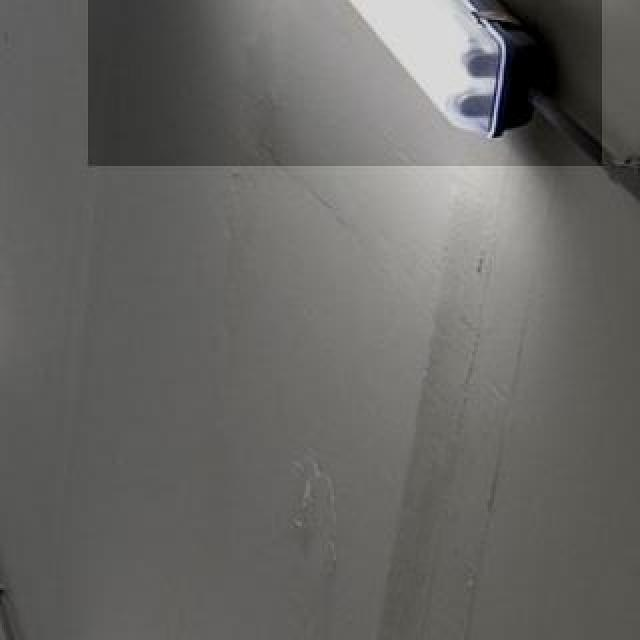fluorescent tube: (136, 0, 562, 156)
